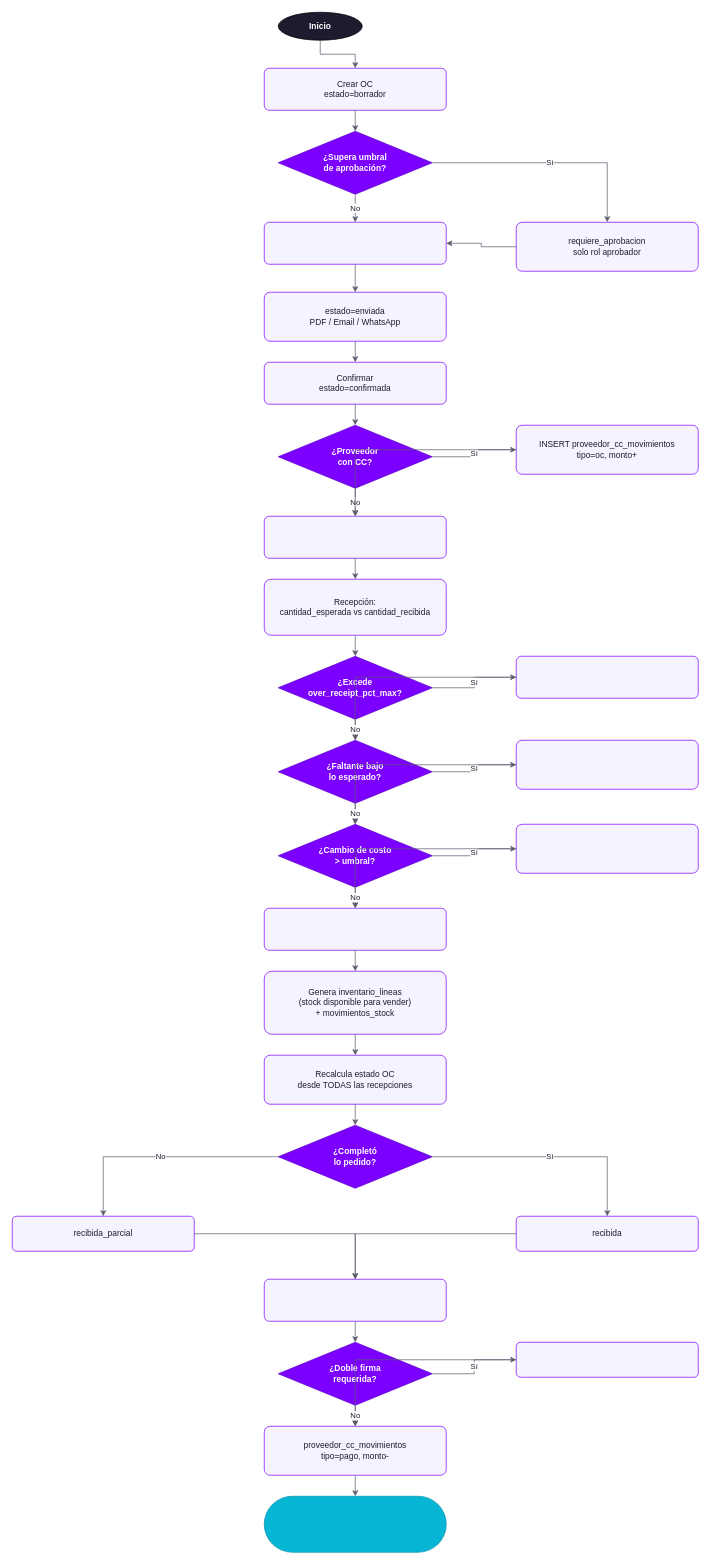
The diagram is 711 pixels wide and 1565 high, and some of its shapes have lost their labels. Each missing label, with the box of its shape:
Aprobar y enviar: (264, 222, 446, 264)
Checkbox: actualizar precio_costo: (516, 824, 698, 873)
Clave maestra: (516, 1342, 698, 1377)
Confirmar recepción: (264, 908, 446, 950)
Motivo obligatorio + alerta configurable: (516, 740, 698, 789)
Pago de la OC: (264, 1279, 446, 1321)
Recibir mercadería: (264, 516, 446, 558)
Requiere SUPERVISOR+: (516, 656, 698, 698)
¿Devolución a proveedor? CO4: crédito CC / efectivo / reposición: (264, 1496, 446, 1552)
